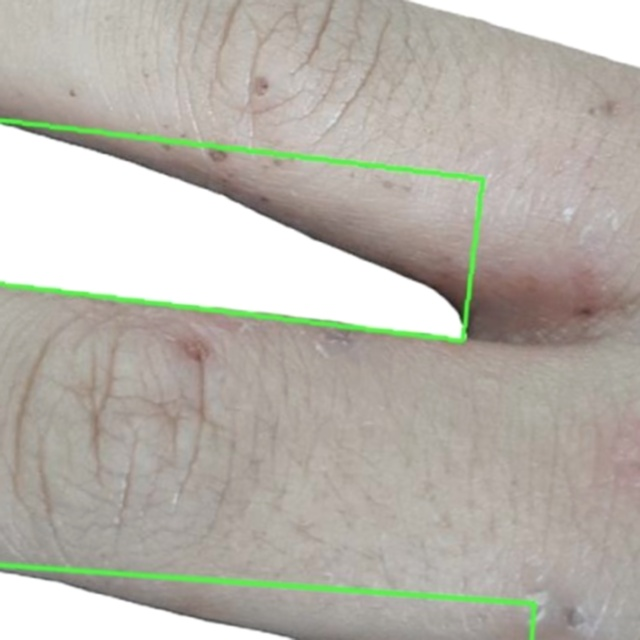Scabies: (0, 121, 482, 341)
